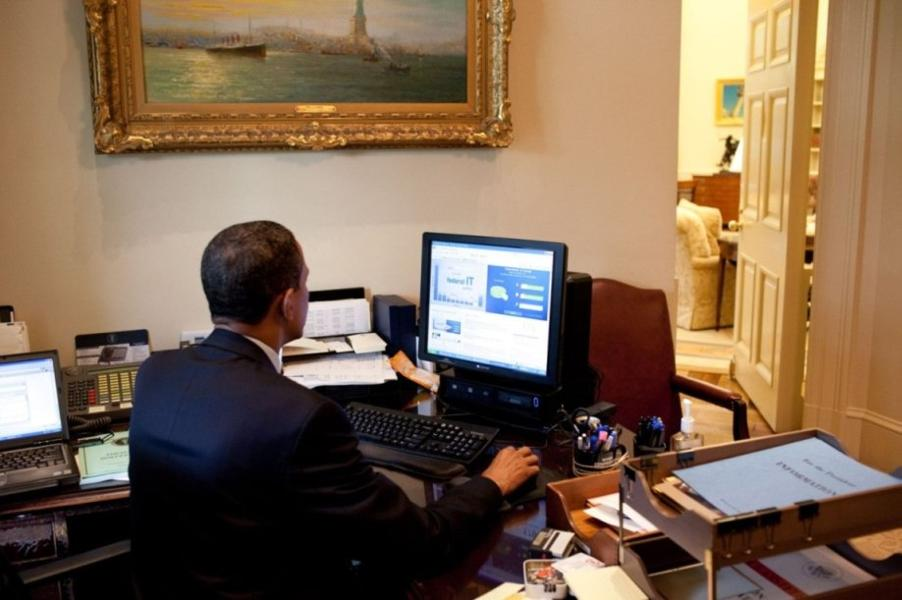person: (124, 219, 539, 600)
